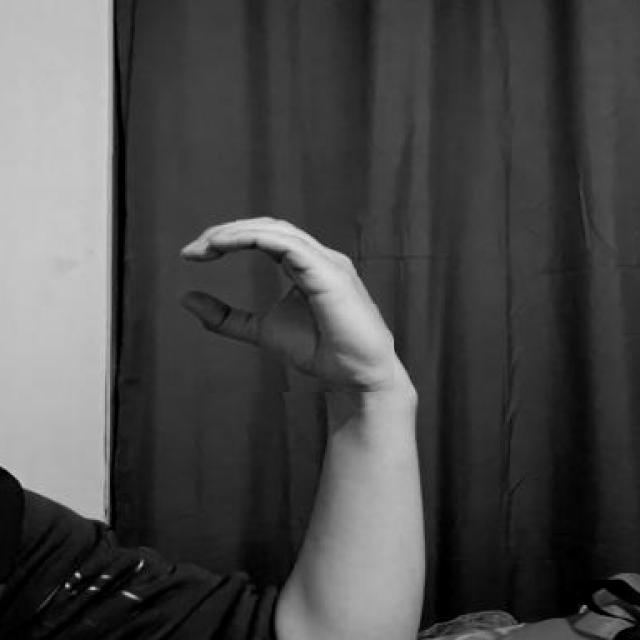C: (168, 210, 394, 393)
